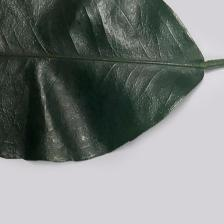healthy: (3, 2, 170, 157)
